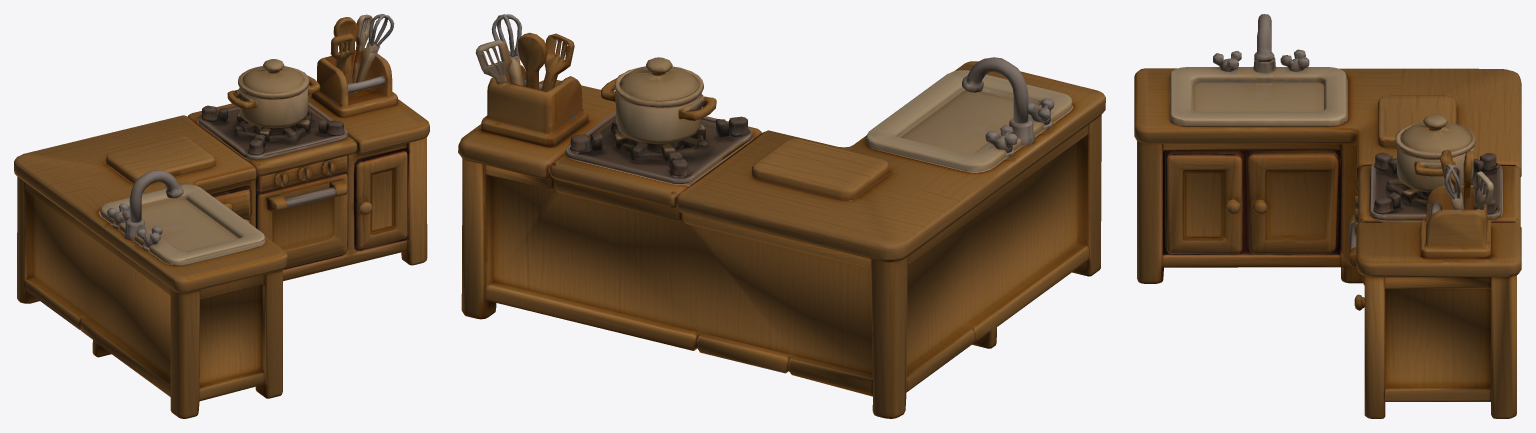
File: wooden_kitchen.fbx
3 renders of one model, left to right at view 1: azimuth 30°, elevation 25°; view 2: azimuth 150°, elevation 25°; view 3: azimuth 270°, elevation 25°, orthographic. The views are drawn at different scales.
Visible parts, largest first — view 1: tripo_node_567d49d2; view 2: tripo_node_567d49d2; view 3: tripo_node_567d49d2.
Part boxes in pixels (x1,y1,x2,y2): tripo_node_567d49d2: (14, 14, 429, 418); tripo_node_567d49d2: (458, 14, 1105, 418); tripo_node_567d49d2: (1134, 14, 1521, 418).
Size of the model in its own units: 0.998 by 0.5957 by 0.8379.
